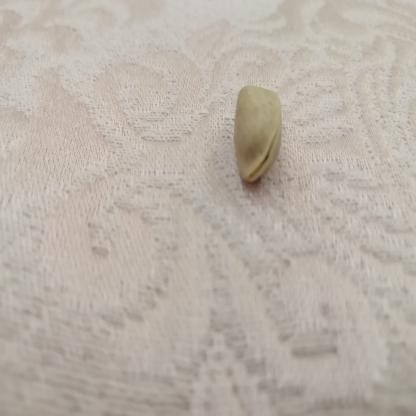pistachio: (236, 86, 286, 189)
